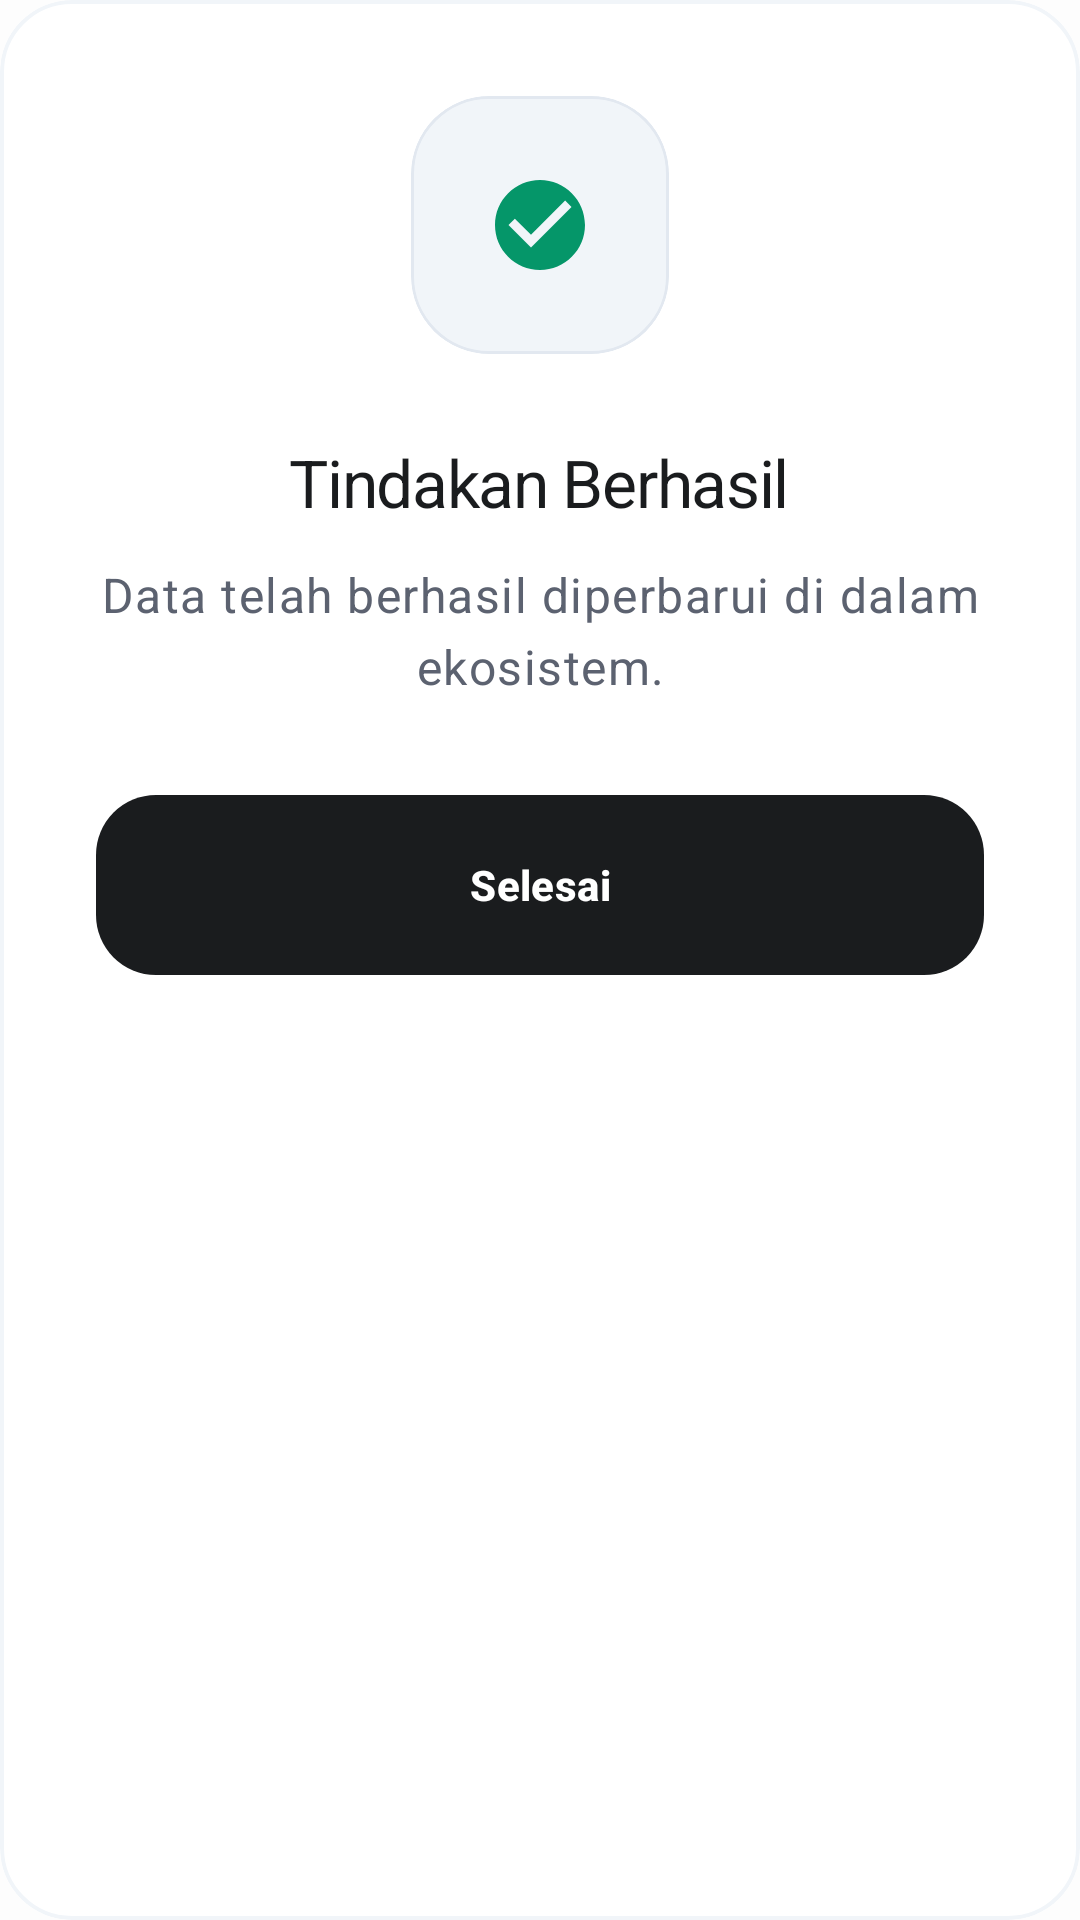

Where to tap for icons on this 1080 x 1920 app screen, as point (x, y):
success: point (540, 225)
